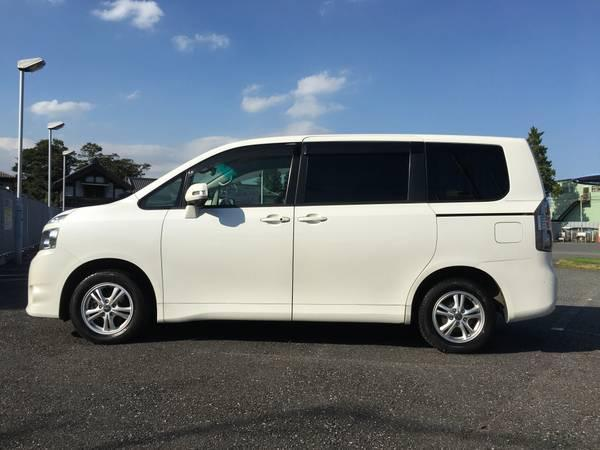Front_Bumper: (27, 251, 73, 318)
Front_Fender: (41, 171, 187, 321)
Front_Left_Door: (162, 205, 295, 319)
Front_Left_Window: (174, 142, 301, 208)
Left_Headlight: (37, 228, 57, 253)
Left_Taillight: (535, 197, 553, 251)
Rear_Bumper: (472, 249, 559, 319)
Rear_Fender: (422, 144, 537, 274)
Rear_Left_Door: (292, 205, 439, 321)
Rear_Left_Window: (294, 143, 428, 206)
Roof: (136, 135, 545, 202)
Wheel: (419, 275, 499, 353), (70, 270, 145, 343)
